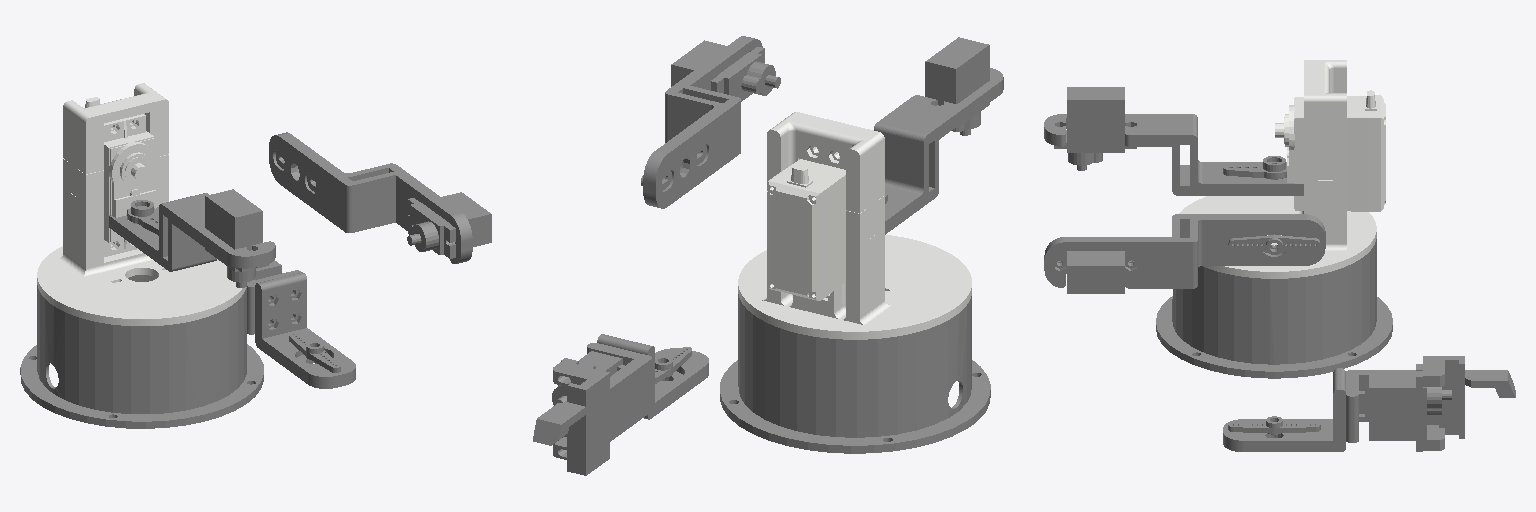
The robot description file, URDF, robot "jdcobot_100_description":
<?xml version="1.0" encoding="utf-8"?>
<!-- This URDF was automatically created by SolidWorks to URDF Exporter! Originally created by [author] ([email redacted]) 
     Commit Version: 1.6.0-4-g7f85cfe  Build Version: 1.6.7995.38578
     For more information, please see http://wiki.ros.org/sw_urdf_exporter -->
<!--
/*MIT License

Copyright (c) 2024 JD edu. http://jdedu.kr author: [email redacted]
     
Permission is hereby granted, free of charge, to any person obtaining a copy
of this software and associated documentation files (the "Software"), to deal
in the Software without restriction, including without limitation the rights
to use, copy, modify, merge, publish, distribute, sublicense, and/or sell
copies of the Software, and to permit persons to whom the Software is
furnished to do so, subject to the following conditions:
     
The above copyright notice and this permission notice shall be included in all
copies or substantial portions of the Software.
     
THE SOFTWARE IS PROVIDED "AS IS", WITHOUT WARRANTY OF ANY KIND, EXPRESS OR
IMPLIED, INCLUDING BUT NOT LIMITED TO THE WARRANTIES OF MERCHANTABILITY,
FITNESS FOR A PARTICULAR PURPOSE AND NONINFRINGEMENT. IN NO EVENT SHALL THE
AUTHORS OR COPYRIGHT [author] ANY CLAIM, DAMAGES OR OTHER
LIABILITY, WHETHER IN AN ACTION OF CONTRACT, TORT OR OTHERWISE, ARISING FROM,
OUT OF OR IN CONNECTION WITH THE SOFTWARE OR THE USE OR OTHER DEALINGS IN TH
SOFTWARE.*/

-->
<robot
  name="jdcobot_100_description">
  <link
    name="base_link">
    <inertial>
      <origin
        xyz="0.0001447 0.019679 -1.9377E-09"
        rpy="0 0 0" />
      <mass
        value="0.20421" />
      <inertia
        ixx="0.00011212"
        ixy="2.8603E-07"
        ixz="-1.2297E-11"
        iyy="0.00016707"
        iyz="-2.1273E-12"
        izz="0.00011109" />
    </inertial>
    <visual>
      <origin
        xyz="0 0 0"
        rpy="0 0 0" />
      <geometry>
        <mesh
          filename="package://jdcobot_100_description/meshes/base_link.STL" />
      </geometry>
      <material
        name="">
        <color
          rgba="0.62745 0.62745 0.62745 1" />
      </material>
    </visual>
    <collision>
      <origin
        xyz="0 0 0"
        rpy="0 0 0" />
      <geometry>
        <mesh
          filename="package://jdcobot_100_description/meshes/base_link.STL" />
      </geometry>
    </collision>
  </link>
  <link
    name="link_1">
    <inertial>
      <origin
        xyz="1.0434E-08 0.0078286 0.011995"
        rpy="-1.5708 0 0" />
      <mass
        value="0.028072" />
      <inertia
        ixx="1.3399E-05"
        ixy="-2.047E-12"
        ixz="8.3813E-13"
        iyy="1.1665E-05"
        iyz="-2.6415E-06"
        izz="1.5368E-05" />
    </inertial>
    <visual>
      <origin
        xyz="0 0 0"
        rpy="-1.5708 0 0" />
      <geometry>
        <mesh
          filename="package://jdcobot_100_description/meshes/link_1.STL" />
      </geometry>
      <material
        name="">
        <color
          rgba="0.96078 0.96078 0.94902 1" />
      </material>
    </visual>
    <collision>
      <origin
        xyz="0 0 0"
        rpy="0 0 0" />
      <geometry>
        <mesh
          filename="package://jdcobot_100_description/meshes/link_1.STL" />
      </geometry>
    </collision>
  </link>
  <joint
    name="joint_1"
    type="revolute">
    <origin
      xyz="0 0 0.04"
      rpy="1.5708 0 0" />
    <parent
      link="base_link" />
    <child
      link="link_1" />
    <axis
      xyz="0 1 0" />
    <limit 
      lower="0"
      upper="3.14"
      effort="100"
      velocity="3" />
  </joint>
  <link
    name="link_2">
    <inertial>
      <origin
        xyz="0.044976 -0.0081943 -0.00014958"
        rpy="0 0 0" />
      <mass
        value="0.020001" />
      <inertia
        ixx="2.9259E-06"
        ixy="4.9182E-06"
        ixz="4.6066E-09"
        iyy="1.7482E-05"
        iyz="-1.0382E-09"
        izz="1.9372E-05" />
    </inertial>
    <visual>
      <origin
        xyz="0 0 0"
        rpy="0 0 0" />
      <geometry>
        <mesh
          filename="package://jdcobot_100_description/meshes/link_2.STL" />
      </geometry>
      <material
        name="">
        <color
          rgba="0.62745 0.62745 0.62745 1" />
      </material>
    </visual>
    <collision>
      <origin
        xyz="0 0 0"
        rpy="0 0 0" />
      <geometry>
        <mesh
          filename="package://jdcobot_100_description/meshes/link_2.STL" />
      </geometry>
    </collision>
  </link>
  <joint
    name="joint_2"
    type="revolute">
    <origin
      xyz="0 0.03045 0"
      rpy="-1.5708 3.1416 3.1416" />
    <parent
      link="link_1" />
    <child
      link="link_2" />
    <axis
      xyz="0 1 0" />
    <limit 
      lower="0"
      upper="3.14"
      effort="100"
      velocity="3" />
  </joint>
  <link
    name="link_3">
    <inertial>
      <origin
        xyz="0.044976 -0.0078943 -0.00014958"
        rpy="0 0 0" />
      <mass
        value="0.020001" />
      <inertia
        ixx="2.9259E-06"
        ixy="4.9182E-06"
        ixz="4.6066E-09"
        iyy="1.7482E-05"
        iyz="-1.0382E-09"
        izz="1.9372E-05" />
    </inertial>
    <visual>
      <origin
        xyz="0 0 0"
        rpy="0 0 0" />
      <geometry>
        <mesh
          filename="package://jdcobot_100_description/meshes/link_3.STL" />
      </geometry>
      <material
        name="">
        <color
          rgba="0.62745 0.62745 0.62745 1" />
      </material>
    </visual>
    <collision>
      <origin
        xyz="0 0 0"
        rpy="0 0 0" />
      <geometry>
        <mesh
          filename="package://jdcobot_100_description/meshes/link_3.STL" />
      </geometry>
    </collision>
  </link>
  <joint
    name="joint_3"
    type="revolute">
    <origin
      xyz="0.07565 0 -0.0001547"
      rpy="0 -1.5708 0" />
    <parent
      link="link_2" />
    <child
      link="link_3" />
    <axis
      xyz="0 1 0" />
    <limit 
      lower="0"
      upper="3.14"
      effort="100"
      velocity="3" />
  </joint>
  <link
    name="link_4">
    <inertial>
      <origin
        xyz="0.010138 -0.0022824 -0.00014019"
        rpy="3.1416 0 0" />
      <mass
        value="0.007057" />
      <inertia
        ixx="5.5769E-07"
        ixy="-3.8132E-07"
        ixz="1.0384E-09"
        iyy="1.769E-06"
        iyz="2.6635E-11"
        izz="1.8807E-06" />
    </inertial>
    <visual>
      <origin
        xyz="0 0 0"
        rpy="3.1416 0 0" />
      <geometry>
        <mesh
          filename="package://jdcobot_100_description/meshes/link_4.STL" />
      </geometry>
      <material
        name="">
        <color
          rgba="0.62745 0.62745 0.62745 1" />
      </material>
    </visual>
    <collision>
      <origin
        xyz="0 0 0"
        rpy="0 0 0" />
      <geometry>
        <mesh
          filename="package://jdcobot_100_description/meshes/link_4.STL" />
      </geometry>
    </collision>
  </link>
  <joint
    name="joint_4"
    type="revolute">
    <origin
      xyz="0.07565 0 -0.0001547"
      rpy="3.1416 -1.5708 3.1416" />
    <parent
      link="link_3" />
    <child
      link="link_4" />
    <axis
      xyz="0 1 0" />
    <limit 
      lower="0"
      upper="3.14"
      effort="100"
      velocity="3" />
  </joint>
</robot>

--- What the picture shows (computed from the rendered views, not written in the file) ---
The picture shows the robot from 3 angles, left to right: view 1: azimuth 30°, elevation 25°; view 2: azimuth 150°, elevation 25°; view 3: azimuth 270°, elevation 25°; orthographic projection.
Model jdcobot_100_description with 5 links and 4 joints (4 revolute), rooted at base_link, posed every joint at zero.
Visible links, largest first — view 1: link_1, base_link, link_3, link_2, link_4; view 2: link_1, base_link, link_4, link_3, link_2; view 3: base_link, link_1, link_3, link_4, link_2.
Boxes of the visible links, x1,y1,x2,y2 form: link_1: (37,83,246,325); base_link: (20,275,263,428); link_3: (269,132,491,263); link_2: (109,189,275,287); link_4: (247,260,355,388); link_1: (738,112,971,339); base_link: (720,294,990,453); link_4: (533,334,708,475); link_3: (641,36,780,208); link_2: (874,37,1003,234); base_link: (1156,232,1392,378); link_1: (1179,60,1385,278); link_3: (1044,214,1325,293); link_4: (1223,356,1515,451); link_2: (1044,87,1303,195).
Bounding box of the posed robot: 0.153 × 0.1843 × 0.1229 m (x, y, z).
5 mesh visuals loaded from 5 distinct referenced files (5 binary STL).
